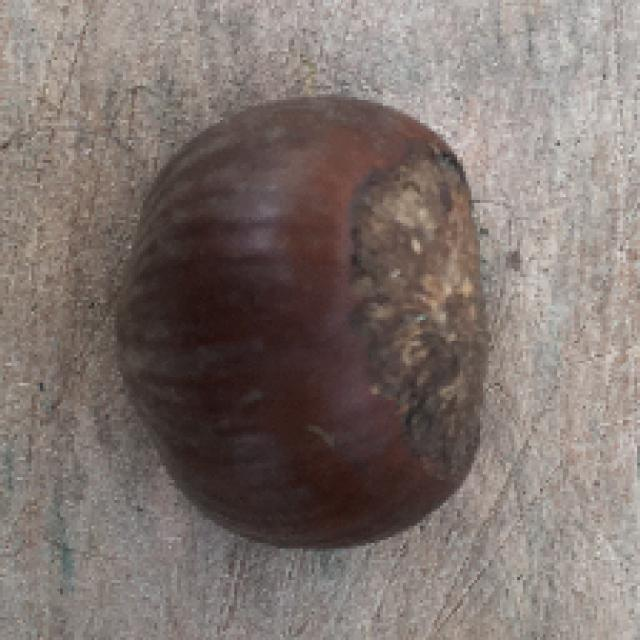DamagedHazelnut: (114, 95, 496, 549)
